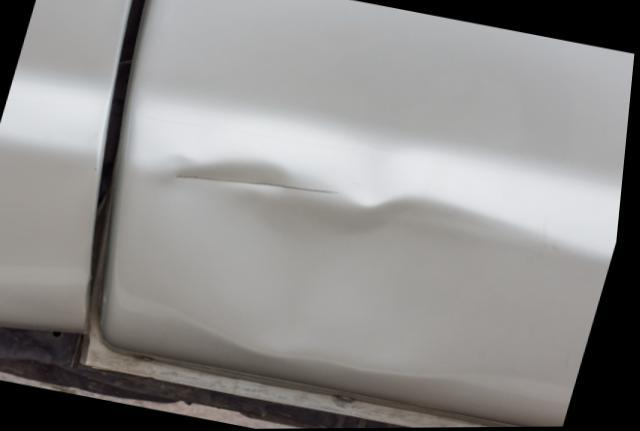dent: (164, 160, 563, 374)
